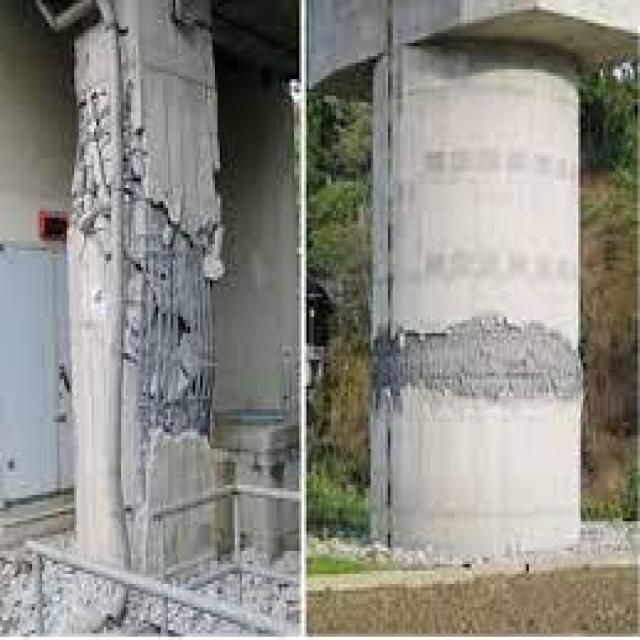Buckling_Beam: (358, 40, 590, 553), (63, 0, 230, 636)
